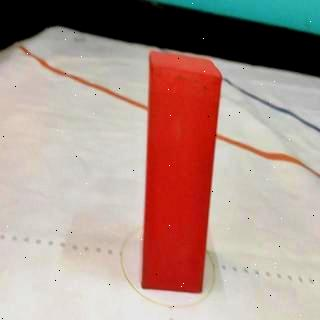redbox: (142, 50, 222, 292)
